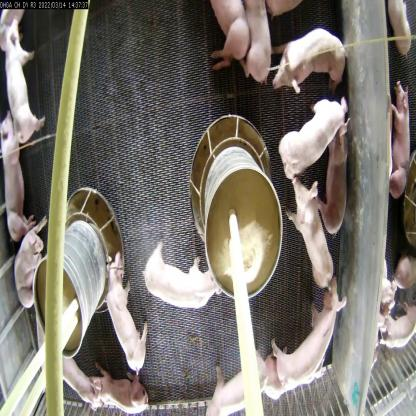Pig: (267, 303, 351, 403), (100, 252, 157, 378), (146, 244, 234, 320), (282, 95, 345, 185), (286, 186, 336, 299), (275, 28, 353, 100), (2, 0, 40, 146), (10, 209, 48, 323), (76, 365, 158, 415), (0, 116, 31, 240), (245, 0, 279, 101), (205, 361, 268, 414), (323, 136, 350, 238), (208, 0, 247, 69)
